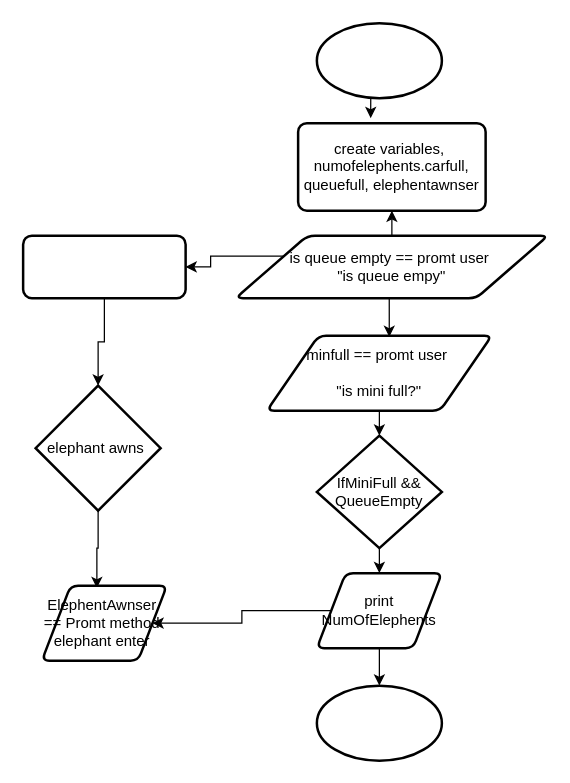
Image size: 570x783. Some labels were removed from this diagram. The shapes that lost their labels are listed below. From the top down, each one's centre as x and y in pixels, then its label:
(x=378, y=60): start
(x=103, y=266): nom of Elephents
(x=378, y=722): s t o p
